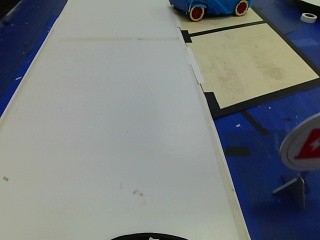battery: (278, 115, 318, 170)
car: (167, 0, 257, 20)
